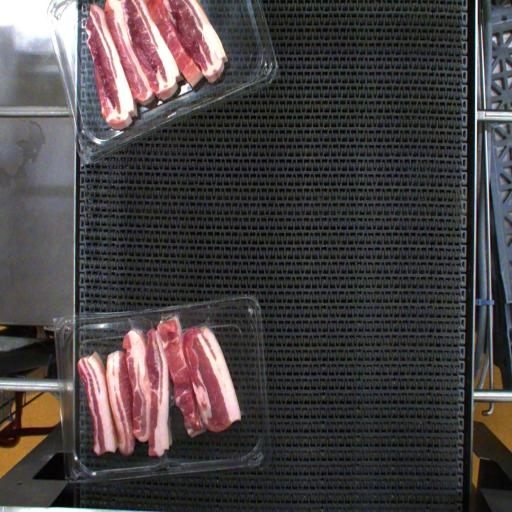packaging-error: (120, 314, 158, 336), (156, 312, 182, 328)
unsealed: (194, 311, 220, 335)
